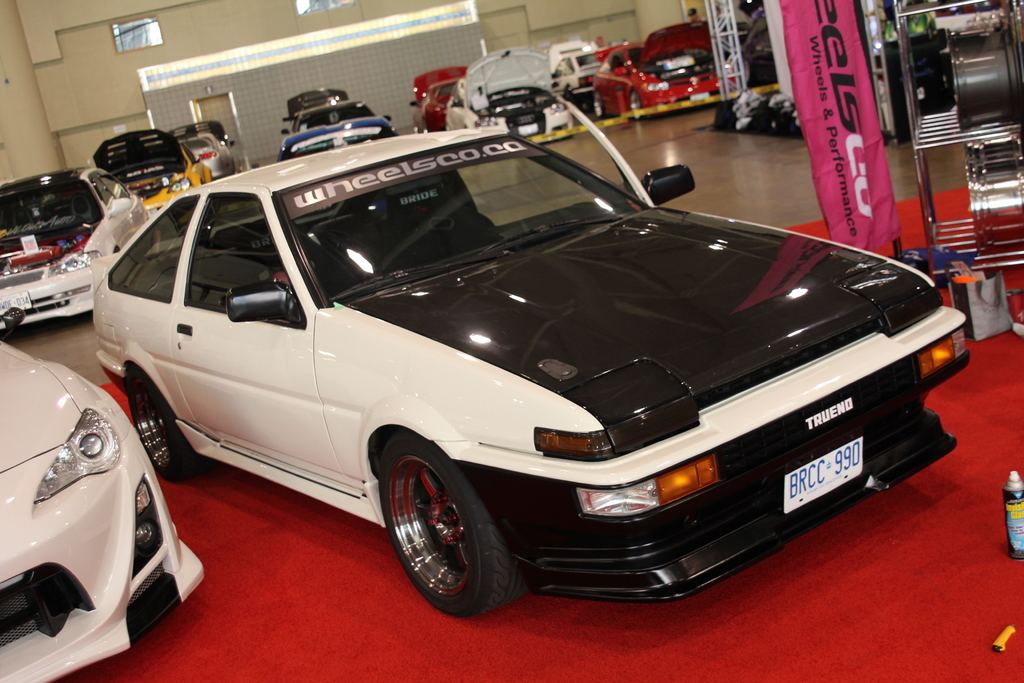Car: (0, 19, 974, 682)
